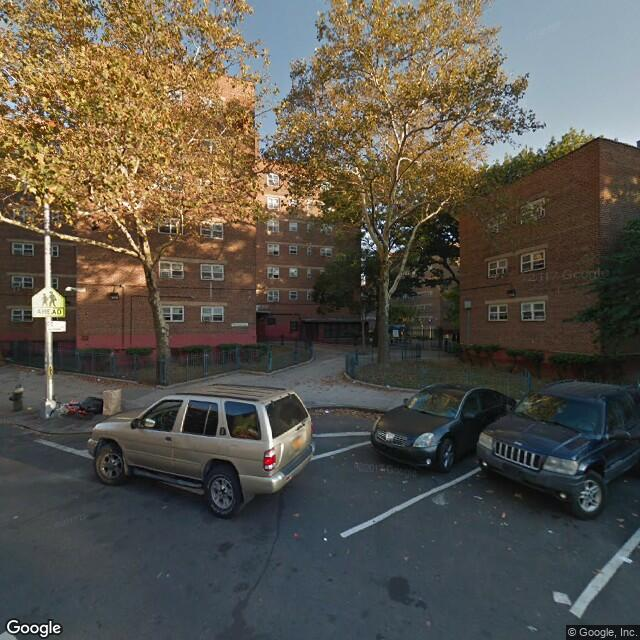litter: (550, 590, 574, 608), (617, 554, 632, 564), (545, 527, 555, 535), (471, 493, 482, 500), (291, 531, 300, 538), (320, 535, 328, 542), (401, 477, 407, 483), (379, 465, 386, 470), (324, 408, 330, 413)
